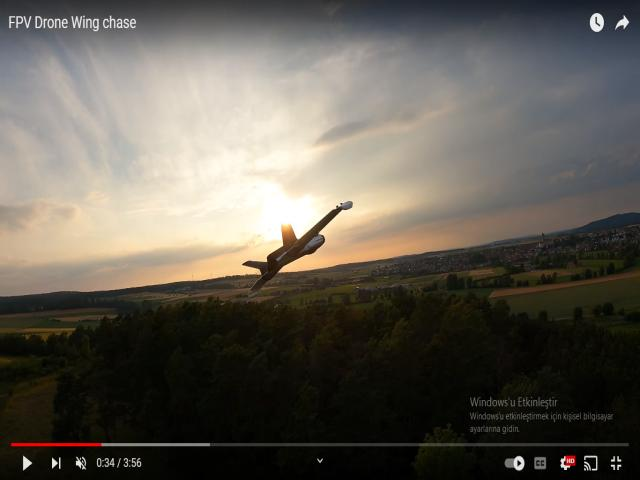plane: (242, 201, 353, 301)
